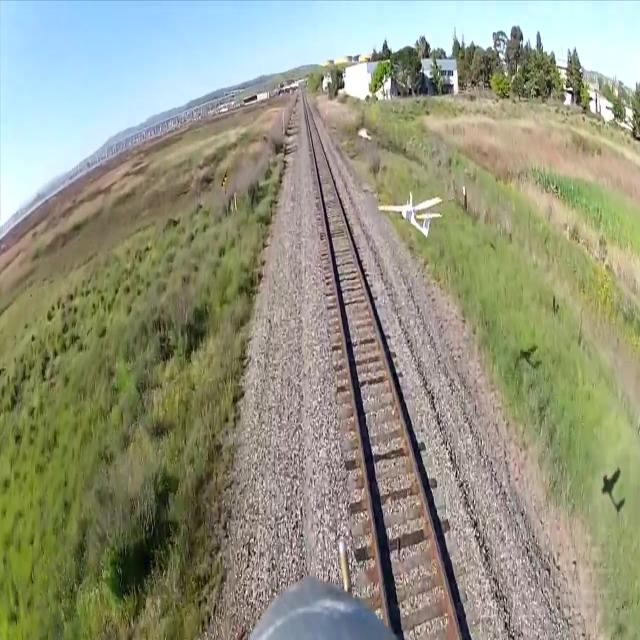iha: (409, 191, 411, 239)
